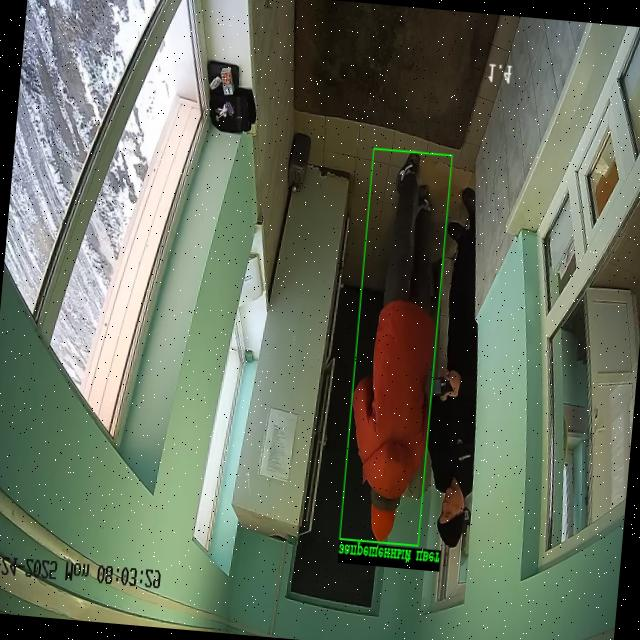Person: (428, 188, 477, 547)
Red uniform: (352, 154, 434, 540)
